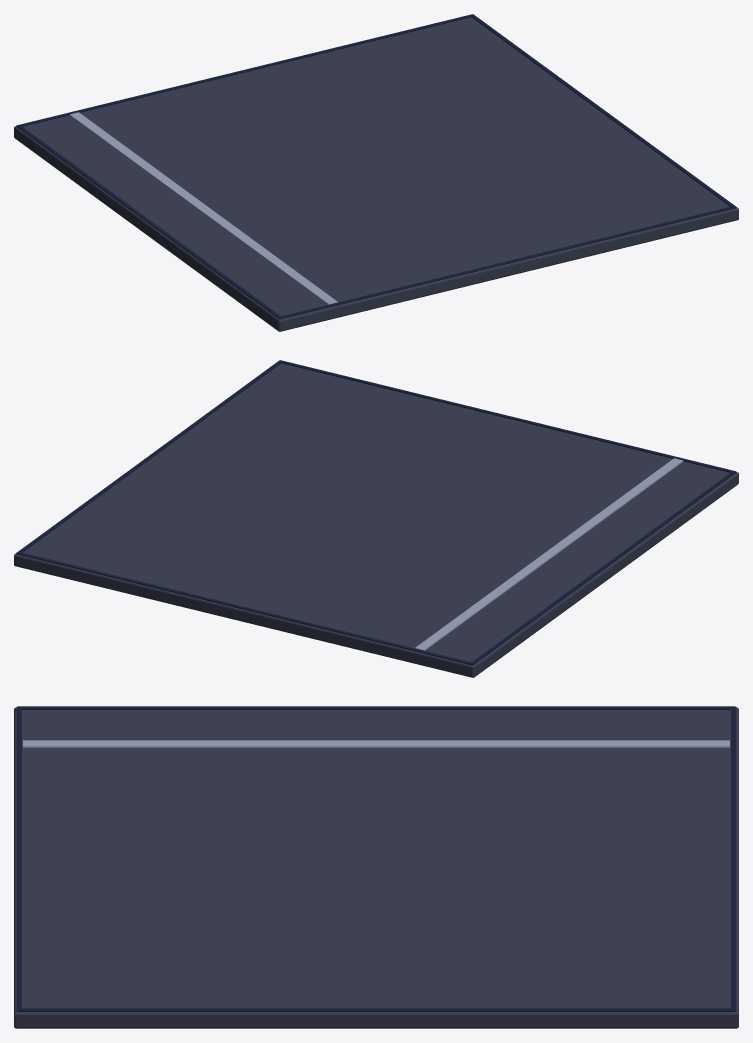
File: sol_tuile.glb
The picture shows the model from 3 angles, top to bottom: view 1: azimuth 30°, elevation 25°; view 2: azimuth 150°, elevation 25°; view 3: azimuth 270°, elevation 25°; orthographic projection. The views are drawn at different scales.
Visible parts, largest first — view 1: Sol, Ligne, JointS, JointN, JointO, JointE; view 2: Sol, Ligne, JointN, JointS, JointO, JointE; view 3: Sol, Ligne, JointE, JointO, JointN, JointS.
Part boxes in pixels (box(x1,y1,x2,y2)): Sol: box(14, 17, 738, 331); Ligne: box(69, 112, 337, 304); JointS: box(279, 206, 736, 319); JointN: box(17, 14, 472, 126); JointO: box(16, 125, 282, 319); JointE: box(470, 14, 736, 207); Sol: box(14, 363, 738, 677); Ligne: box(415, 458, 683, 650); JointN: box(16, 552, 473, 665); JointS: box(279, 360, 735, 472); JointO: box(470, 471, 736, 665); JointE: box(16, 360, 282, 553); Sol: box(14, 707, 738, 1028); Ligne: box(23, 740, 729, 747); JointE: box(17, 1008, 735, 1011); JointO: box(17, 706, 734, 709); JointN: box(731, 706, 736, 1011); JointS: box(16, 706, 21, 1011).
Bounding box in the file's own units: 4 × 0.11 × 4.
